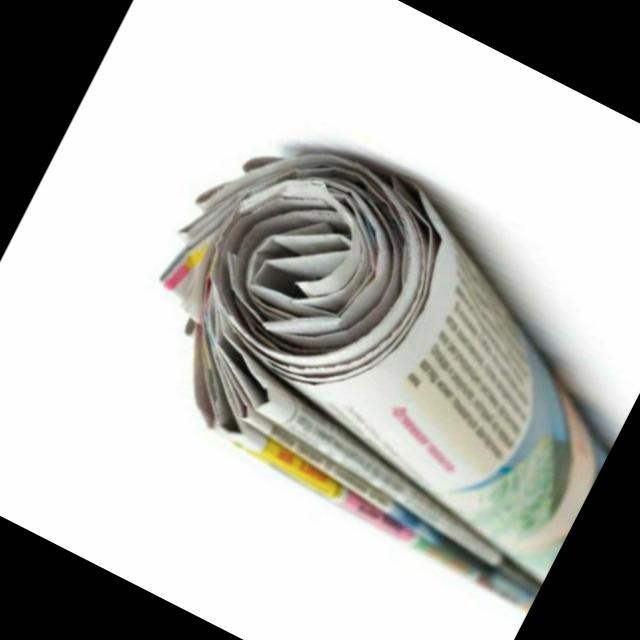Koran: (93, 95, 640, 618)
